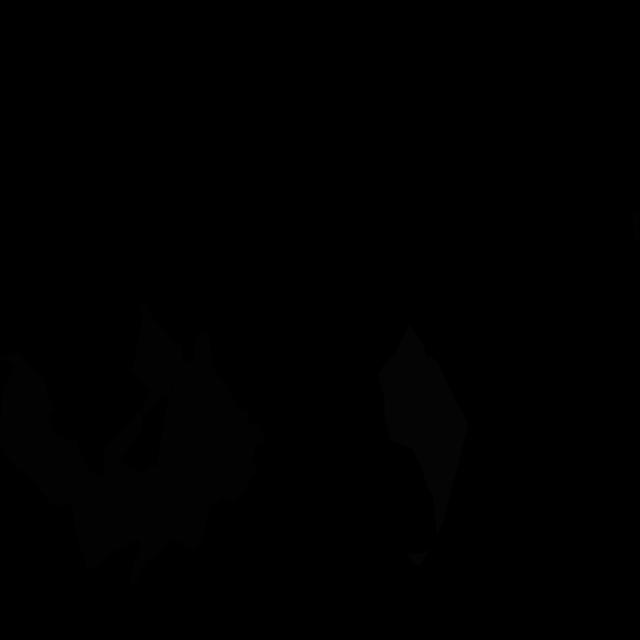cardboard: (0, 351, 107, 545), (150, 330, 242, 550), (79, 409, 177, 585), (129, 298, 184, 416), (239, 408, 264, 497), (631, 207, 639, 249)
soft_plastic: (378, 324, 468, 538), (406, 549, 431, 567)
